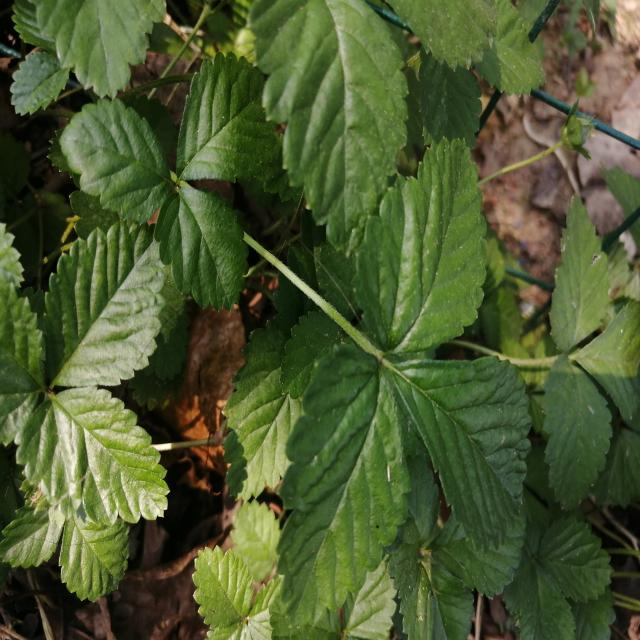Mock_strawberry: (0, 216, 220, 524)
